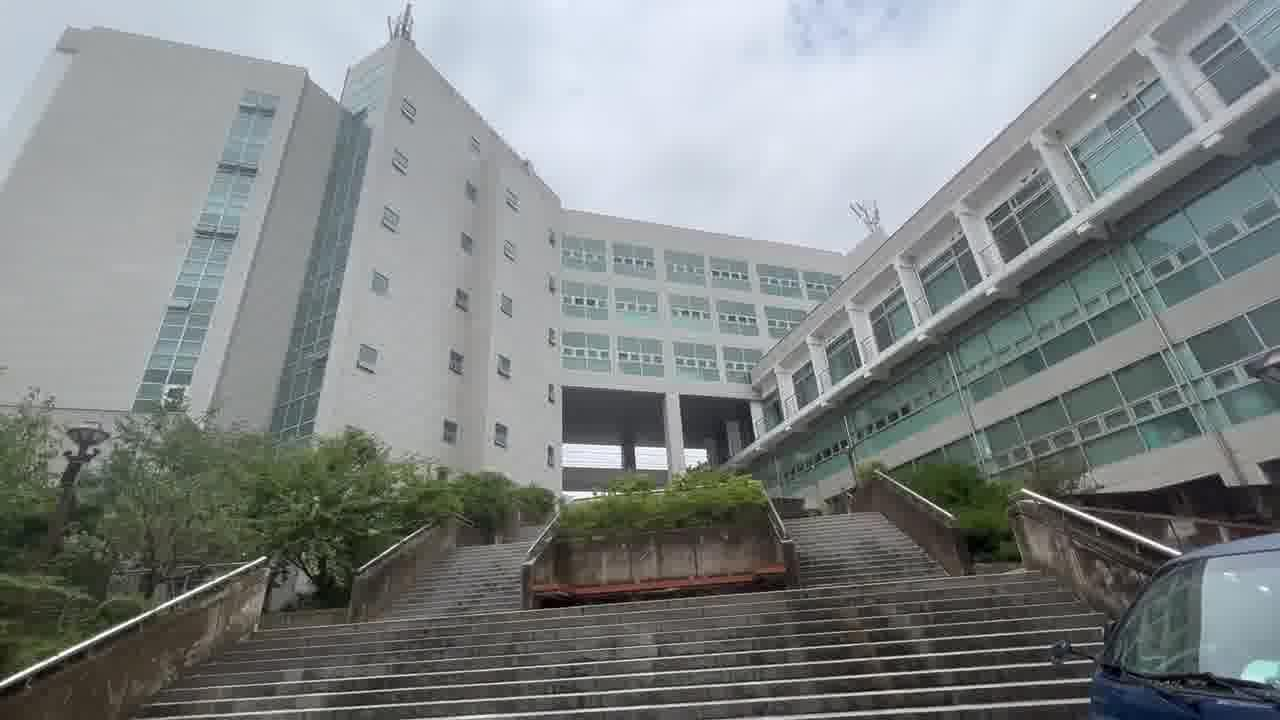building: (23, 28, 821, 428)
